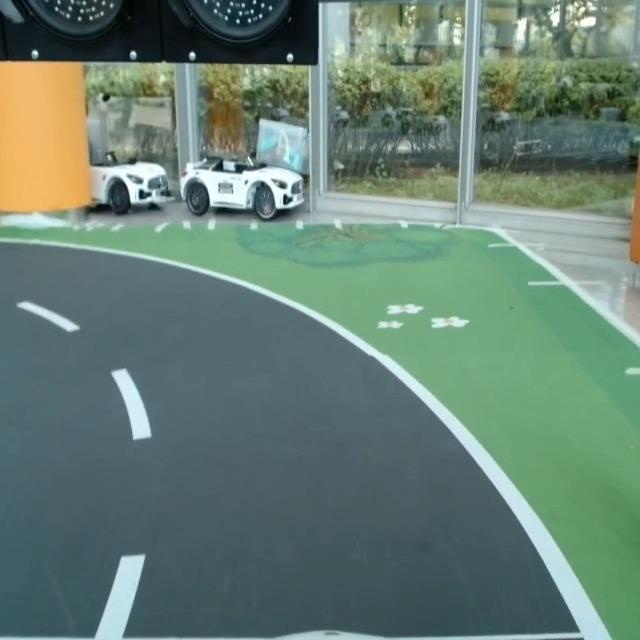traffic-light: (0, 0, 329, 69)
